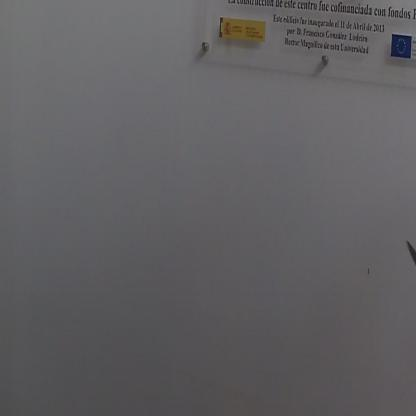knife: (402, 232, 416, 340)
